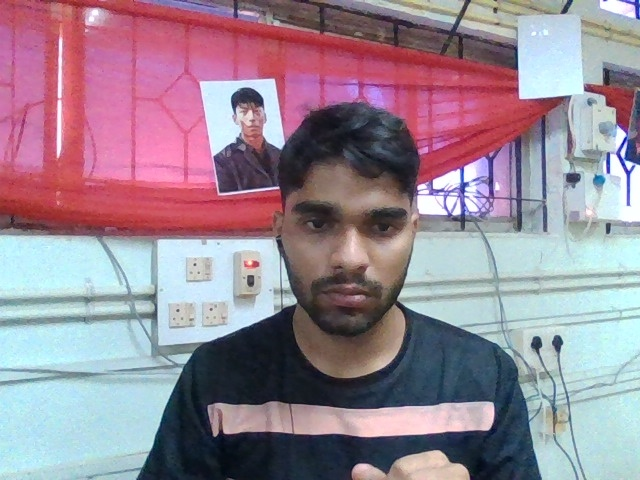go: (353, 448, 377, 464)
